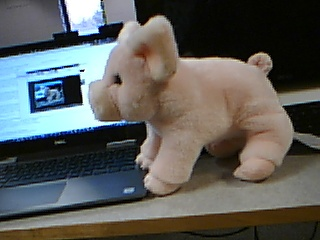piggy: (87, 12, 296, 196)
